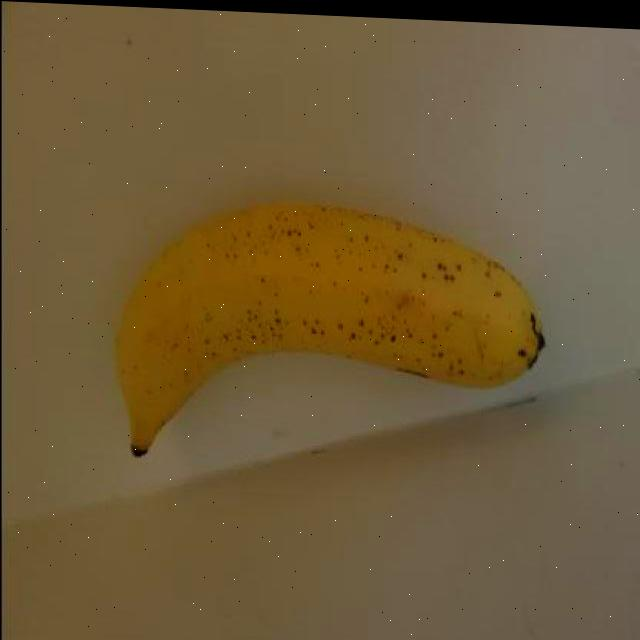banana: (112, 196, 540, 478)
